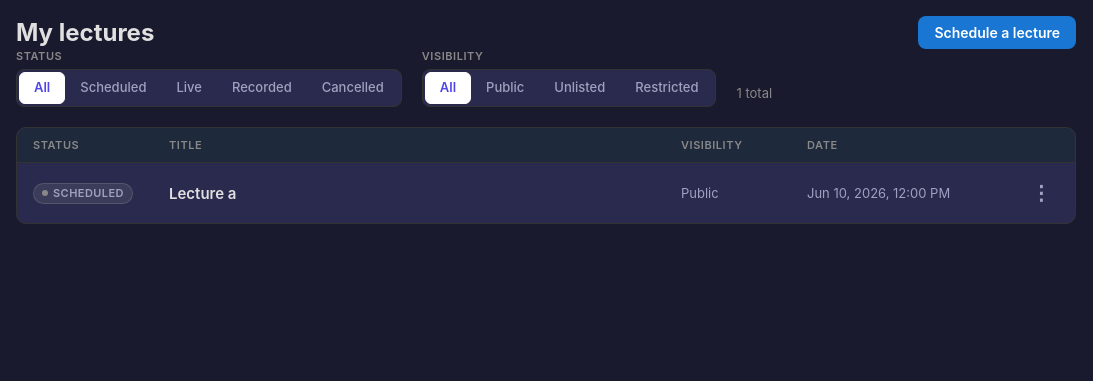
Test case: <MyLecturesPage> KS-3998: ⋮-меню по статусам › scheduled: пункты Open / Settings / Copy link / Delete
Expected: the list with test id "my-lectures-list" is shown, [16,127,1076,224]
Click the button "⋮". click: (1041, 193)
box: [1023,175,1059,211]
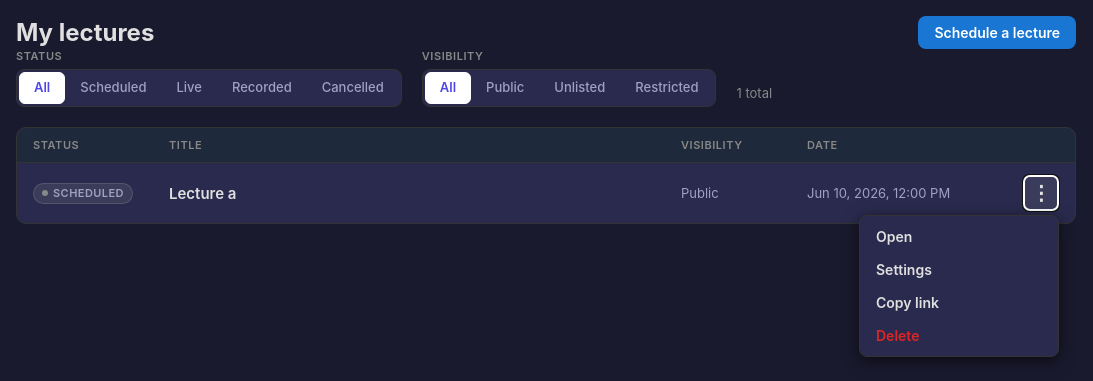
Now the menu item with test id "my-lectures-action-open-a" is shown, box [864,220,1054,253]
Now the menu item with test id "my-lectures-action-settings-a" is shown, box [864,253,1054,286]
Now the menu item with test id "my-lectures-action-share-a" is shown, box [864,286,1054,319]
